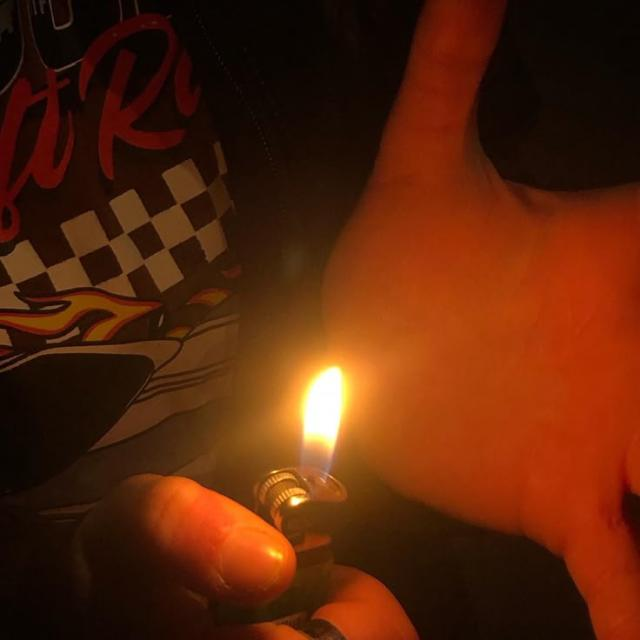fire: (298, 364, 346, 481)
